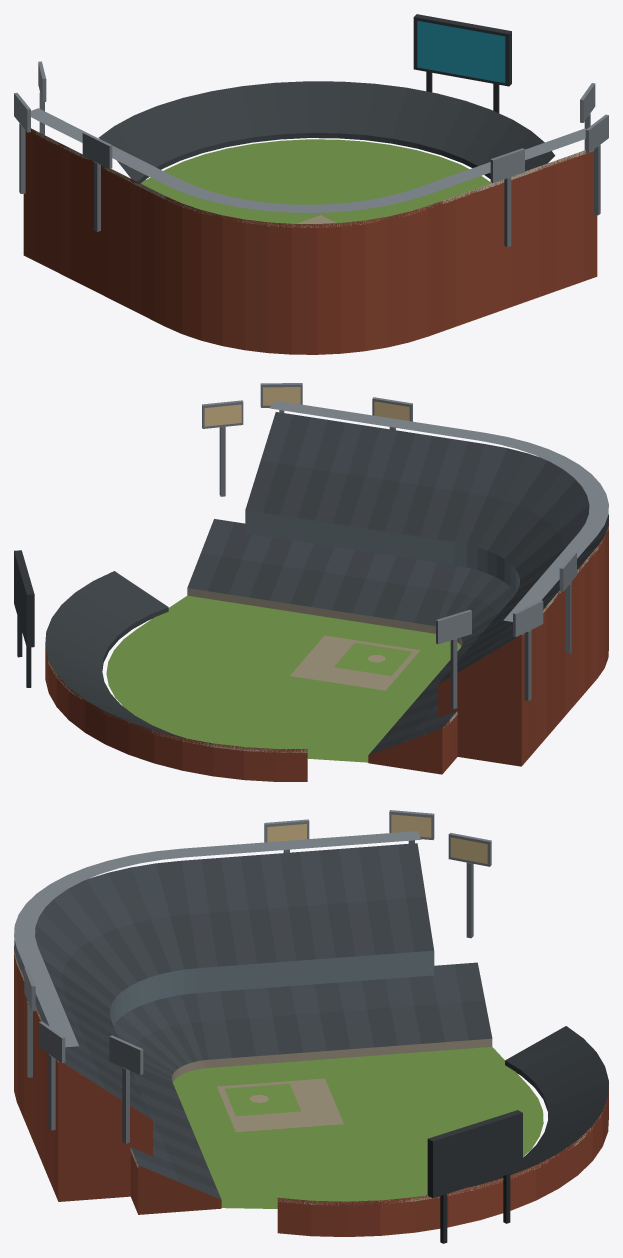
3 renders of one model, top to bottom at view 1: azimuth 30°, elevation 25°; view 2: azimuth 150°, elevation 25°; view 3: azimuth 270°, elevation 25°, orthographic. The views are drawn at different scales.
Parts seen in each view (by area): view 1: queens-ballpark-lod1; view 2: queens-ballpark-lod1; view 3: queens-ballpark-lod1.
Part boxes in pixels (x1,y1,x2,y2): queens-ballpark-lod1: (14,14,608,354); queens-ballpark-lod1: (14,383,608,781); queens-ballpark-lod1: (14,810,608,1243).
Size of the model in its own units: 258 by 76.79 by 243.
